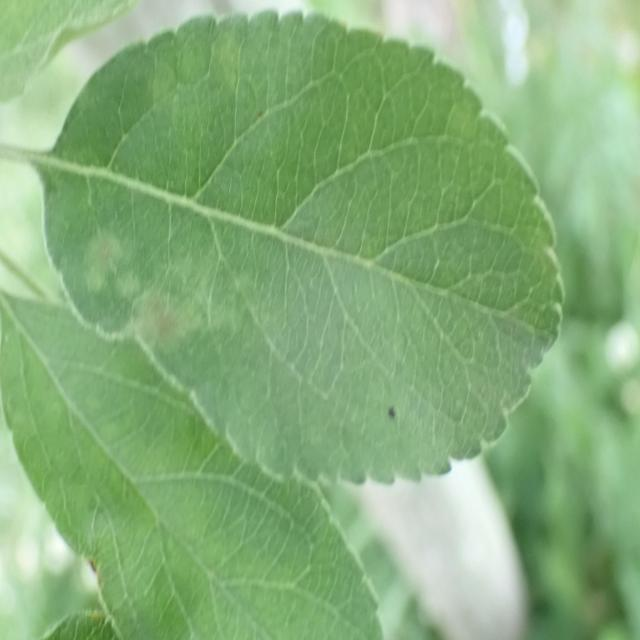scab: (47, 45, 546, 443)
